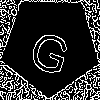G: (25, 20, 77, 78)
